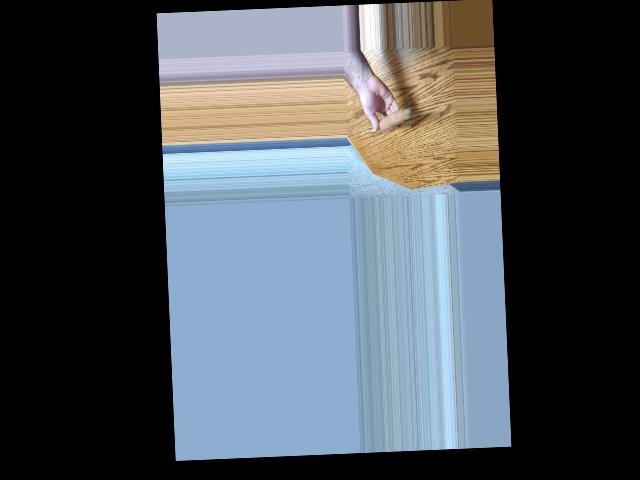sweet_potato: (375, 106, 412, 132)
